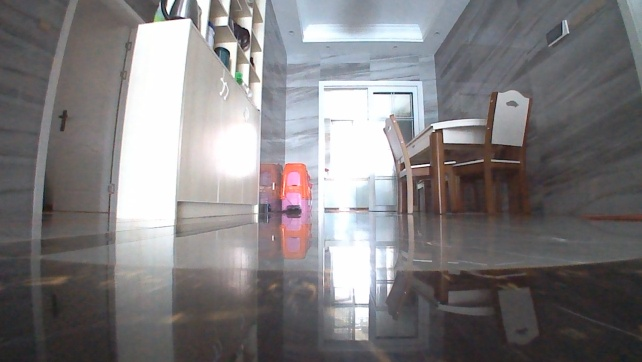dining_table: (378, 85, 534, 220)
door: (46, 0, 142, 216)
